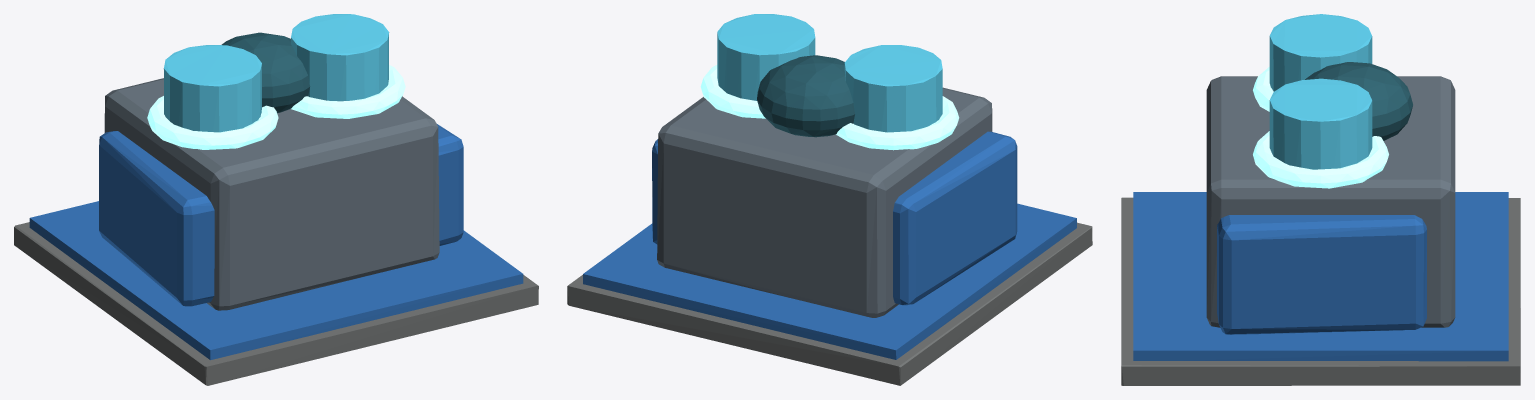
The model's file is SM_Alliance_AL_PowerPlant_LOD1.fbx.
3 renders of one model, left to right at view 1: azimuth 30°, elevation 25°; view 2: azimuth 150°, elevation 25°; view 3: azimuth 270°, elevation 25°, orthographic. The views are drawn at different scales.
Visible parts, largest first — view 1: LOD01_SM_Alliance_AL_PowerPlant; view 2: LOD01_SM_Alliance_AL_PowerPlant; view 3: LOD01_SM_Alliance_AL_PowerPlant.
Part boxes in pixels (x1,y1,x2,y2): LOD01_SM_Alliance_AL_PowerPlant: (14,14,538,385); LOD01_SM_Alliance_AL_PowerPlant: (567,14,1092,385); LOD01_SM_Alliance_AL_PowerPlant: (1121,14,1520,385).
Size of the model in its own units: 599 by 598 by 387.
